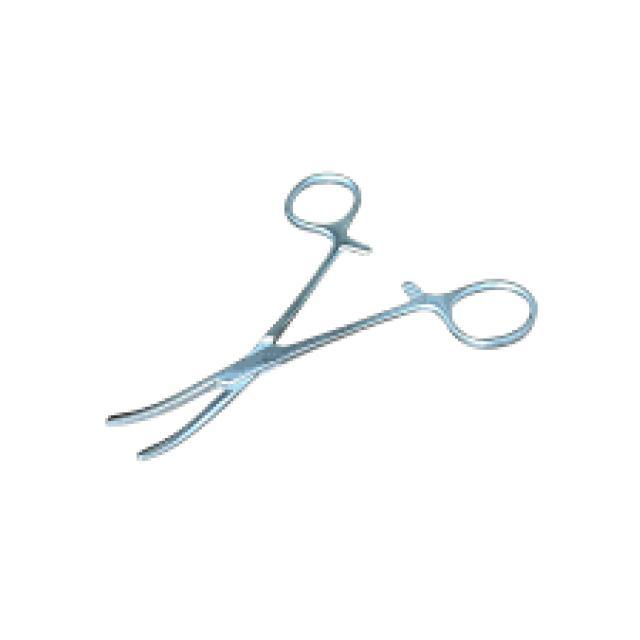Artery Forceps: (103, 153, 542, 474)
